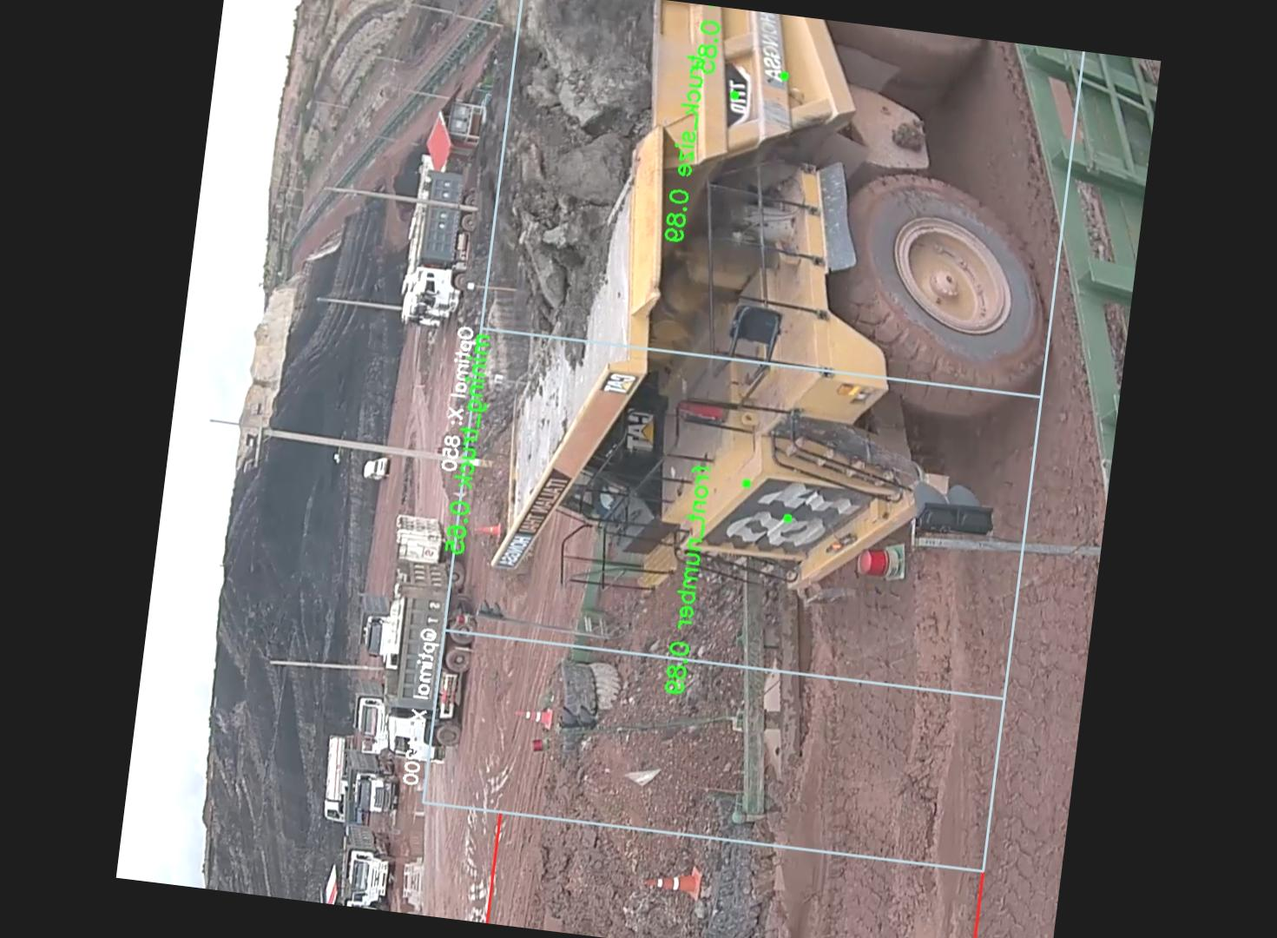company: (716, 7, 804, 89)
full_load: (456, 0, 683, 241)
mining_truck: (386, 0, 1079, 637)
truck_size: (704, 57, 761, 134)
